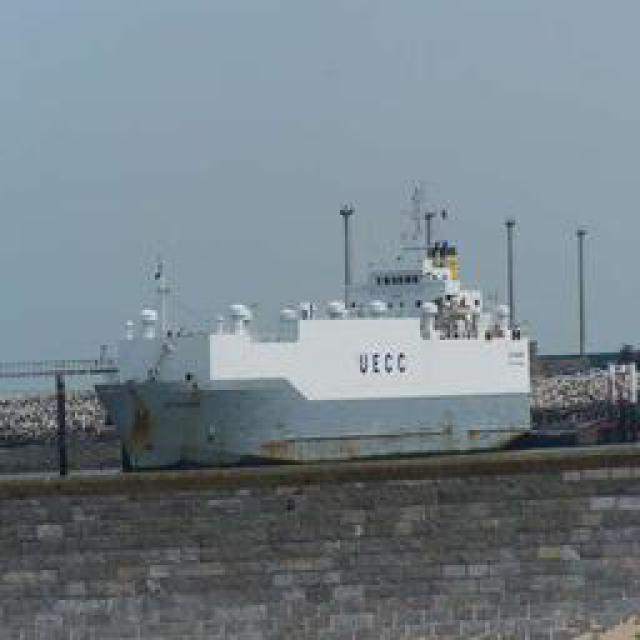Ship: (77, 182, 557, 455)
